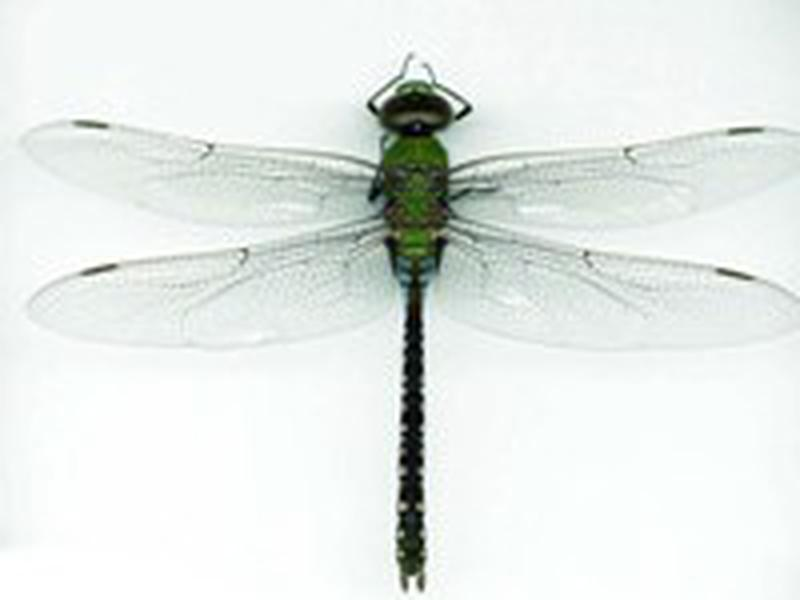Rice_earhead_bug: (30, 71, 800, 367)
